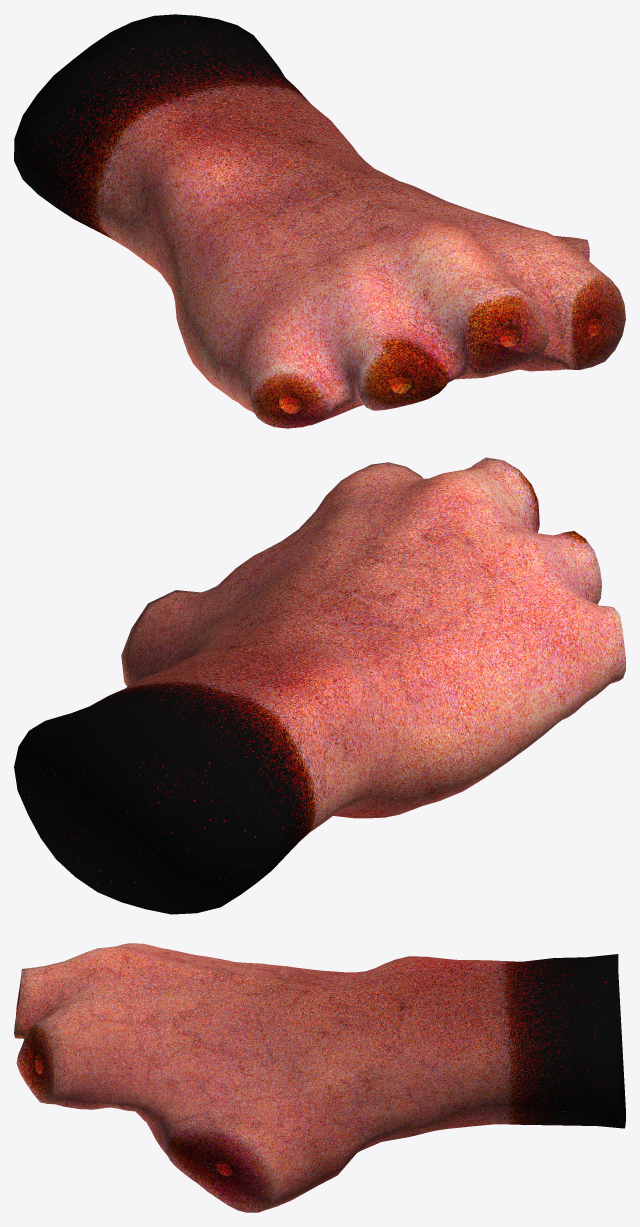
The picture shows the model from 3 angles, top to bottom: view 1: azimuth 30°, elevation 25°; view 2: azimuth 150°, elevation 25°; view 3: azimuth 270°, elevation 25°; orthographic projection. The views are drawn at different scales.
Parts seen in each view (by area): view 1: hand_mesh; view 2: hand_mesh; view 3: hand_mesh.
Boxes of the visible parts, x1,y1,x2,y2 form: hand_mesh: [14, 14, 625, 428]; hand_mesh: [14, 457, 625, 914]; hand_mesh: [14, 943, 625, 1212].
Size of the model in its own units: 0.4475 by 0.2474 by 0.6952.
Materials: 1 (1 with a texture image).
